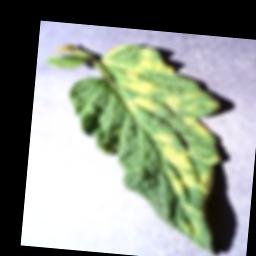Leaf_Mold: (57, 42, 235, 255)
